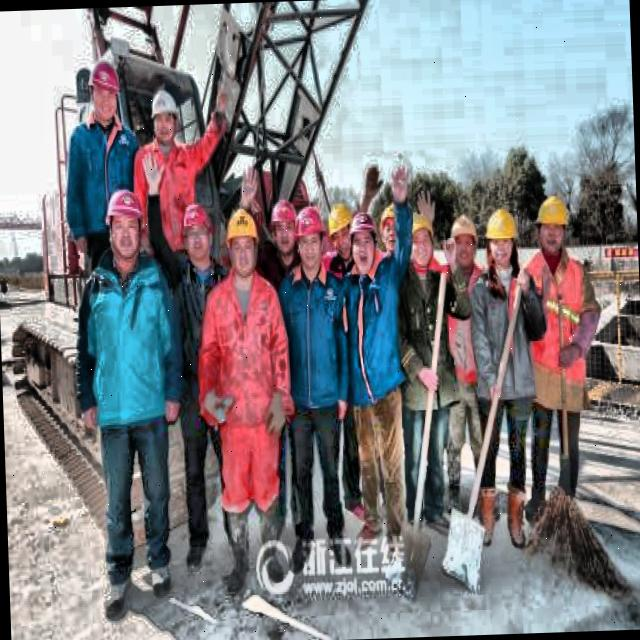helmet: (100, 185, 145, 265), (342, 210, 384, 282), (222, 204, 260, 280), (88, 50, 124, 126), (535, 192, 573, 262), (484, 200, 520, 270), (292, 206, 328, 274), (447, 210, 482, 276), (180, 200, 218, 260), (407, 211, 440, 272), (268, 195, 300, 257), (328, 200, 356, 270), (378, 199, 408, 255), (148, 91, 180, 142)
